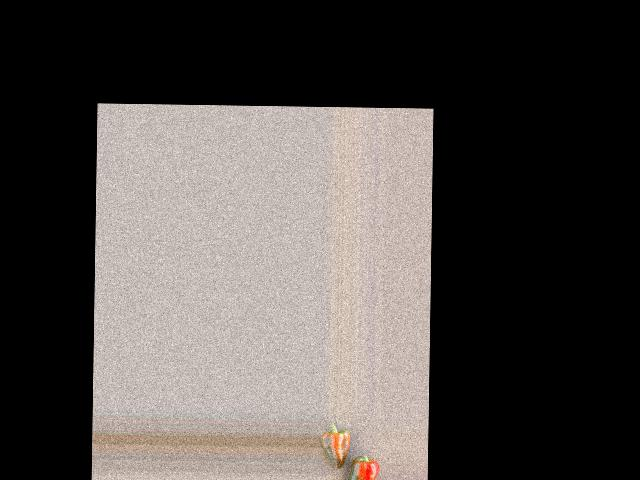bell_pepper: (346, 441, 381, 480)
